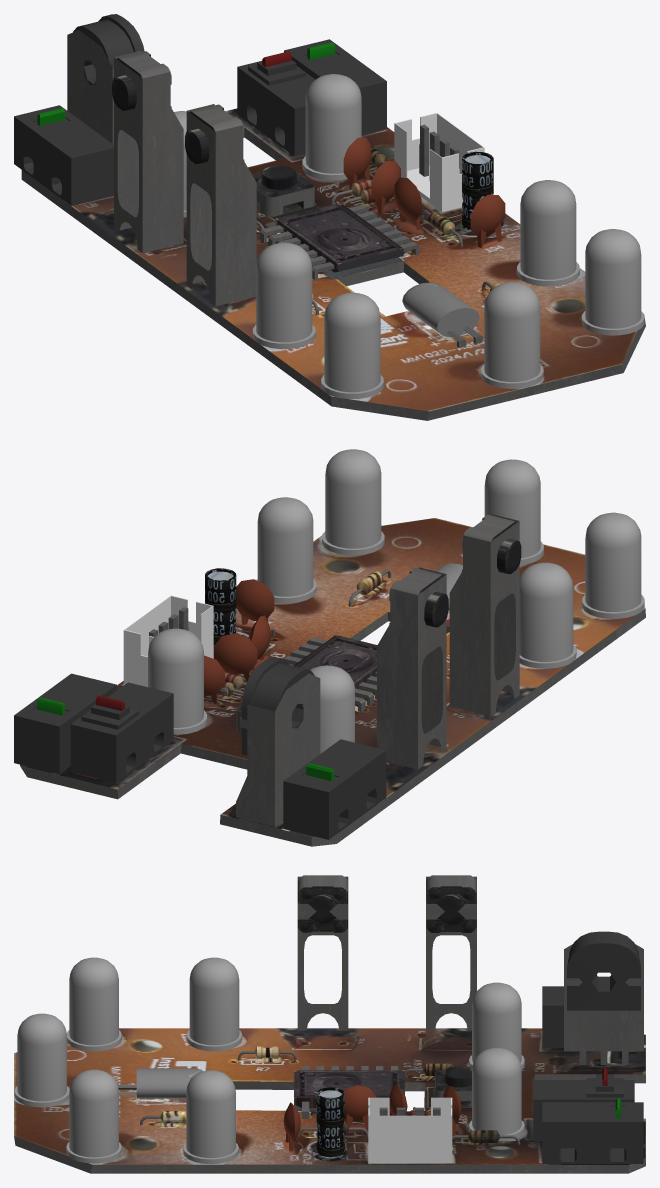
File: computer_board_mouse_board.glb
The picture shows the model from 3 angles, top to bottom: view 1: azimuth 30°, elevation 25°; view 2: azimuth 150°, elevation 25°; view 3: azimuth 270°, elevation 25°; orthographic projection. The views are drawn at different scales.
Parts seen in each view (by area): view 1: photo_2025-10-05_19-51-33_49, Cube.011_11, Cube.009_9, photo_2025-10-05_19-51-33.001_50, Cube.004_4, Cylinder.011_32, Cylinder.013_34, Cylinder.012_33, Cylinder.009_30, Cylinder.010_31, Cube.005_5, Cylinder.007_28 (+19 smaller); view 2: photo_2025-10-05_19-51-33_49, Cube.011_11, Cube.009_9, Cube.006_6, Cube.005_5, Cube.004_4, photo_2025-10-05_19-51-33.001_50, Cylinder.010_31, Cylinder.011_32, Cylinder.009_30, Cylinder.012_33, Cube.002_2 (+16 smaller); view 3: photo_2025-10-05_19-51-33_49, photo_2025-10-05_19-51-33.001_50, Cube.002_2, Cube.007_7, Cube.001_1, Cylinder.009_30, Cylinder.011_32, Cylinder.013_34, Cylinder.012_33, Cylinder.010_31, Cylinder.007_28, Cylinder.008_29 (+16 smaller).
Part boxes in pixels (x1,y1,x2,y2): photo_2025-10-05_19-51-33_49: [25, 108, 636, 411]; Cube.011_11: [186, 104, 256, 306]; Cube.009_9: [114, 50, 183, 252]; photo_2025-10-05_19-51-33.001_50: [21, 127, 645, 420]; Cube.004_4: [14, 105, 113, 205]; Cylinder.011_32: [581, 229, 644, 335]; Cylinder.013_34: [481, 282, 543, 388]; Cylinder.012_33: [517, 180, 579, 286]; Cylinder.009_30: [252, 242, 315, 349]; Cylinder.010_31: [321, 292, 383, 398]; Cube.005_5: [237, 60, 315, 156]; Cylinder.007_28: [302, 74, 361, 180]; photo_2025-10-05_19-51-33_49: [26, 518, 645, 836]; Cube.011_11: [449, 514, 519, 716]; Cube.009_9: [377, 567, 446, 769]; Cube.006_6: [236, 673, 320, 826]; Cube.005_5: [70, 682, 173, 782]; Cube.004_4: [283, 739, 386, 839]; photo_2025-10-05_19-51-33.001_50: [20, 608, 645, 846]; Cylinder.010_31: [582, 512, 644, 618]; Cylinder.011_32: [322, 449, 384, 555]; Cylinder.009_30: [519, 562, 576, 668]; Cylinder.012_33: [256, 497, 316, 603]; Cube.002_2: [14, 673, 116, 773]; photo_2025-10-05_19-51-33_49: [14, 1028, 645, 1164]; photo_2025-10-05_19-51-33.001_50: [14, 1074, 645, 1173]; Cube.002_2: [542, 1102, 643, 1163]; Cube.007_7: [567, 931, 640, 1010]; Cube.001_1: [368, 1097, 452, 1163]; Cylinder.009_30: [186, 957, 242, 1051]; Cylinder.011_32: [66, 1069, 121, 1163]; Cylinder.013_34: [14, 1013, 69, 1107]; Cylinder.012_33: [183, 1070, 238, 1164]; Cylinder.010_31: [66, 957, 121, 1051]; Cylinder.007_28: [469, 1047, 524, 1141]; Cylinder.008_29: [469, 982, 524, 1069].
Size of the model in its own units: 1.01 by 0.5594 by 1.95.
12 materials, 6 textured.
